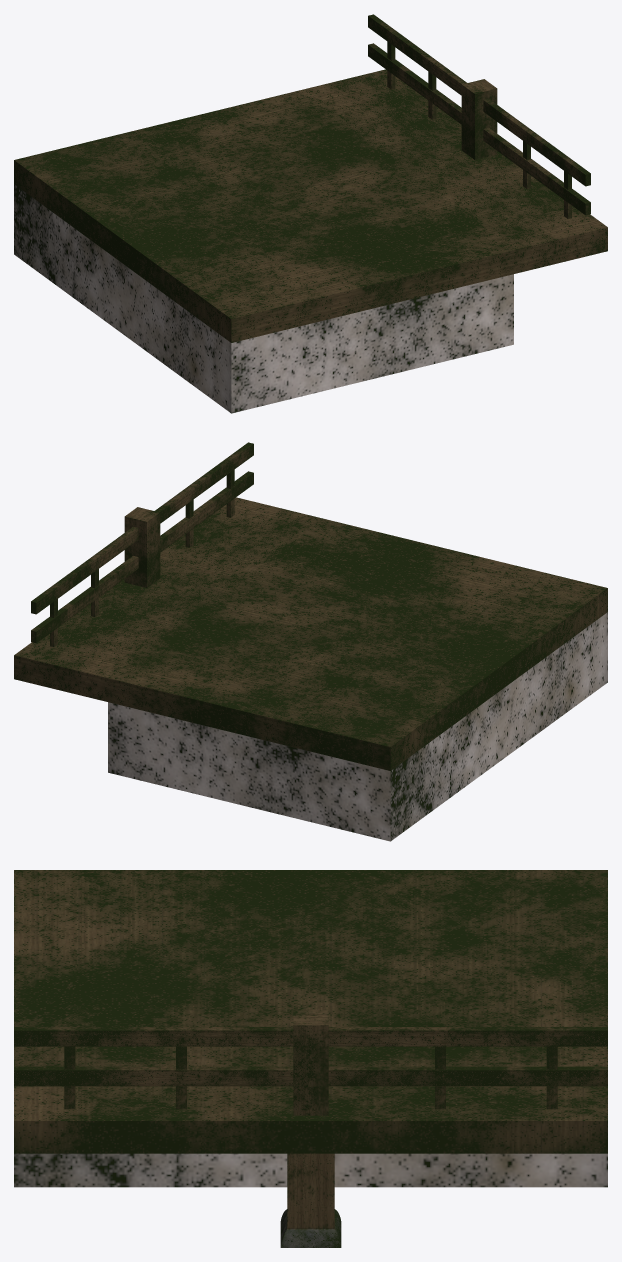
File: shrine_floor_outside_veranda_01.fbx
The picture shows the model from 3 angles, top to bottom: view 1: azimuth 30°, elevation 25°; view 2: azimuth 150°, elevation 25°; view 3: azimuth 270°, elevation 25°; orthographic projection. The views are drawn at different scales.
Parts seen in each view (by area): view 1: shrine_floor_outside_veranda_01; view 2: shrine_floor_outside_veranda_01; view 3: shrine_floor_outside_veranda_01.
Boxes of the visible parts, bbox=[...] form: shrine_floor_outside_veranda_01: bbox=[14, 14, 607, 413]; shrine_floor_outside_veranda_01: bbox=[14, 442, 607, 841]; shrine_floor_outside_veranda_01: bbox=[14, 870, 607, 1247].
Size of the model in its own units: 330 by 134 by 330.
Materials: 1 (1 with a texture image).
